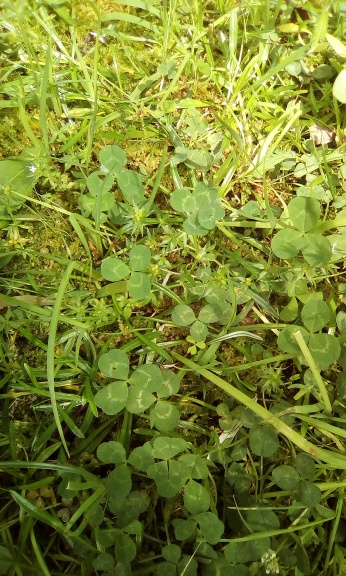4leaf: (170, 181, 225, 237)
